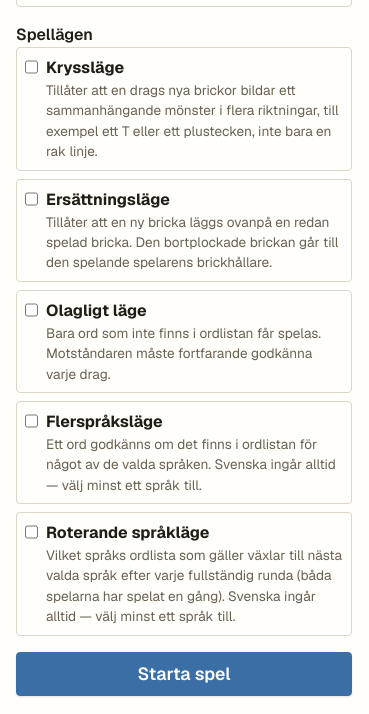
Scenario: GameSetup › disables Wild while Polyglot is selected, and vice versa
This screenshot has width=369, height=714.
(page scrolled)
Click the checkbox labelled "Flerspråksläge" at [32, 421], box [25,412,38,430]
(page scrolled)
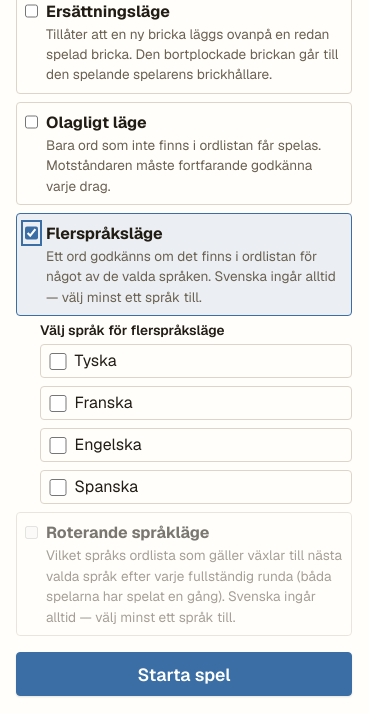
Now the checkbox labelled "Roterande språkläge" is disabled, box [25,524,38,542]
